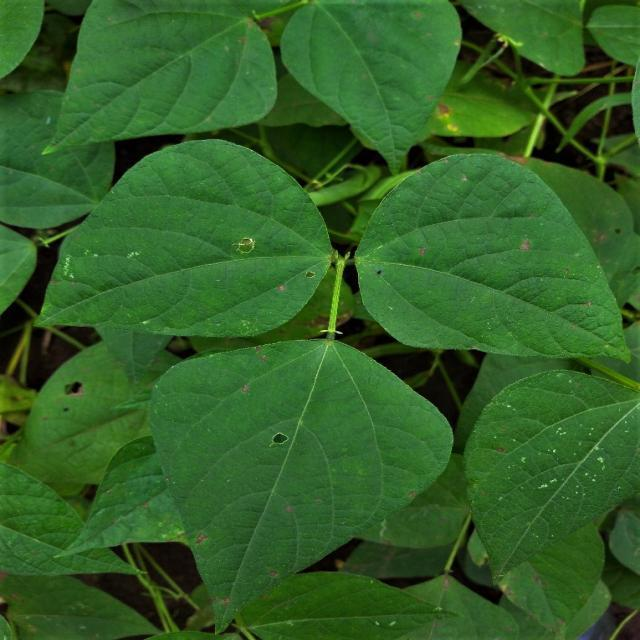embun tepung: (490, 382, 620, 549), (55, 248, 148, 298)
hawar: (29, 378, 105, 417), (500, 233, 544, 264), (230, 232, 268, 266), (185, 525, 218, 557), (255, 343, 294, 367), (266, 432, 293, 464), (300, 266, 324, 282), (236, 378, 253, 398), (275, 279, 291, 292)
sehat: (115, 24, 231, 112), (319, 387, 390, 508), (309, 18, 378, 111), (129, 188, 209, 232)
